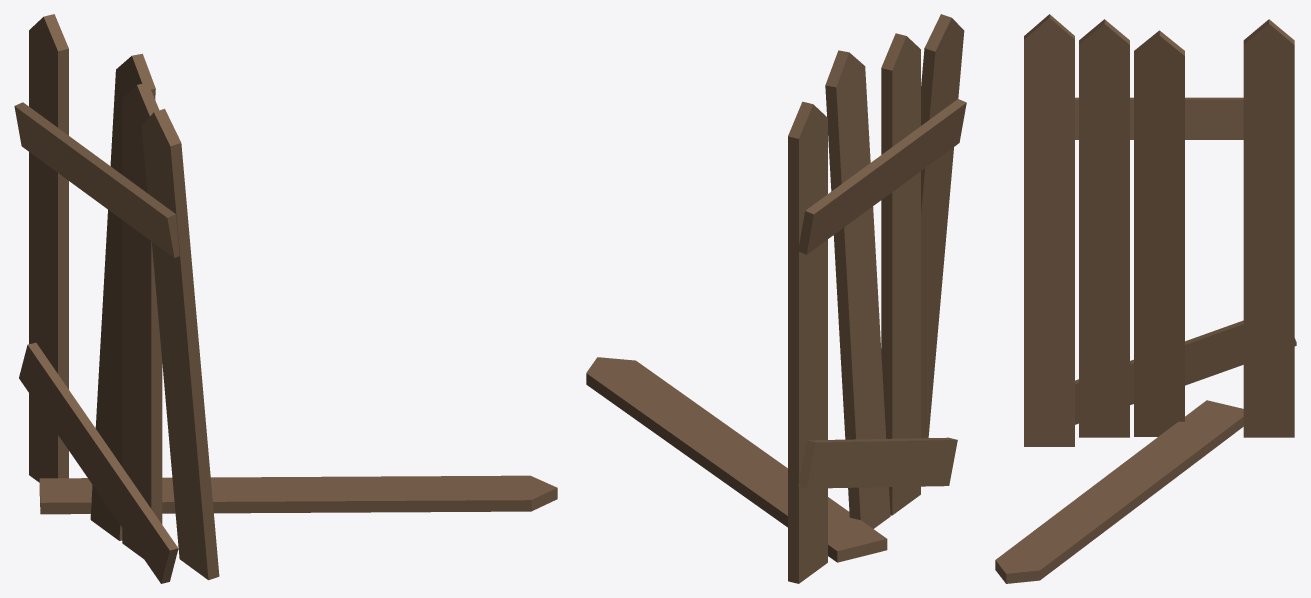
The model's file is picket_fence_tall_broken_B.gltf.
The picture shows the model from 3 angles, left to right: view 1: azimuth 30°, elevation 25°; view 2: azimuth 150°, elevation 25°; view 3: azimuth 270°, elevation 25°; orthographic projection. The views are drawn at different scales.
Parts seen in each view (by area): view 1: Plank4, Plank2, Plank5, Plank3, CrossBoard.001, Plank1, CrossBoard; view 2: Plank5, Plank1, Plank3, Plank2, Plank4, CrossBoard.001, CrossBoard; view 3: Plank4, Plank5, Plank3, Plank1, Plank2, CrossBoard.001, CrossBoard.
Boxes of the visible parts, bbox=[...] form: Plank4: bbox=[141, 108, 219, 580]; Plank2: bbox=[39, 475, 557, 514]; Plank5: bbox=[29, 14, 68, 482]; Plank3: bbox=[122, 82, 162, 558]; CrossBoard.001: bbox=[19, 342, 178, 583]; Plank1: bbox=[90, 53, 155, 540]; CrossBoard: bbox=[14, 102, 179, 257]; Plank5: bbox=[788, 101, 827, 583]; Plank1: bbox=[825, 50, 890, 528]; Plank3: bbox=[881, 33, 920, 515]; Plank2: bbox=[586, 357, 887, 562]; Plank4: bbox=[921, 14, 964, 438]; CrossBoard.001: bbox=[798, 437, 957, 488]; CrossBoard: bbox=[799, 99, 966, 254]; Plank4: bbox=[1024, 14, 1074, 446]; Plank5: bbox=[1243, 19, 1294, 437]; Plank3: bbox=[1079, 19, 1129, 437]; Plank1: bbox=[1134, 30, 1184, 436]; Plank2: bbox=[995, 400, 1243, 583]; CrossBoard.001: bbox=[1075, 320, 1296, 424]; CrossBoard: bbox=[1075, 97, 1243, 139].
Bounding box in the file's own units: 3.43 × 3.84 × 2.51.
